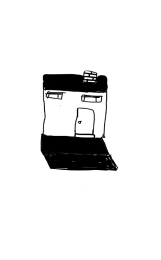chimney: (81, 66, 101, 87)
closed_window: (78, 93, 105, 104), (45, 89, 64, 103)
door: (70, 106, 99, 139)
shaded_roof: (38, 69, 112, 96)
shadow: (39, 132, 121, 174)
small_house: (3, 1, 161, 260)
wall: (40, 86, 109, 141)
